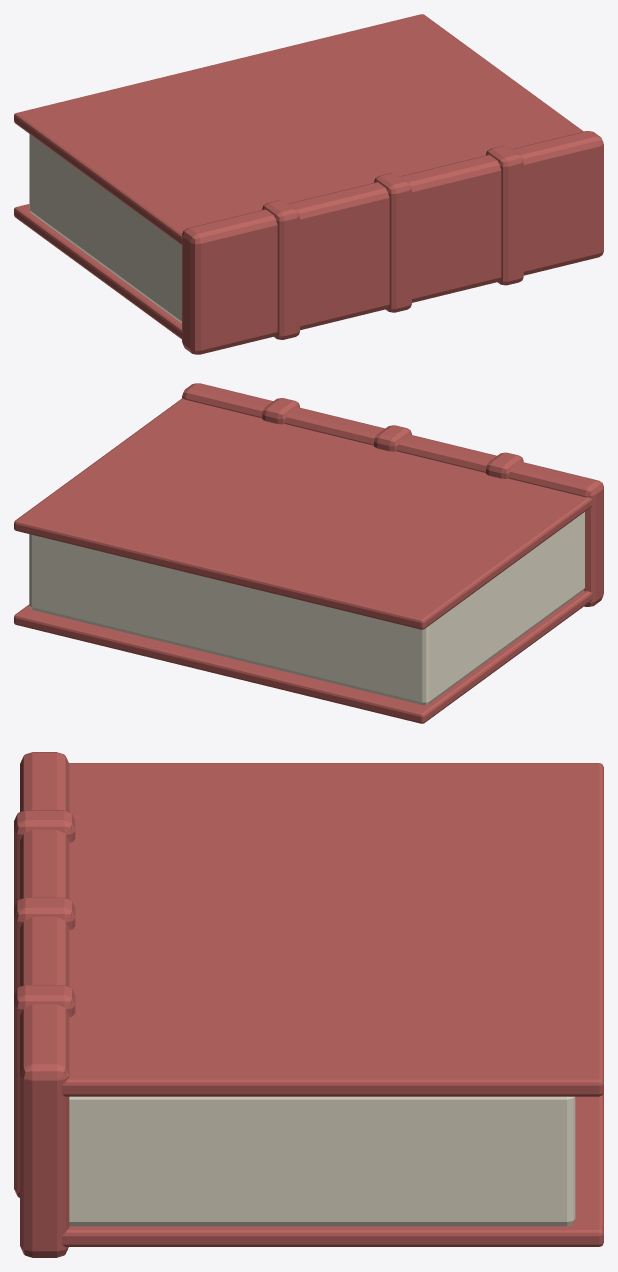
File: monastery_finished_codex.glb
3 renders of one model, top to bottom at view 1: azimuth 30°, elevation 25°; view 2: azimuth 150°, elevation 25°; view 3: azimuth 270°, elevation 25°, orthographic. The views are drawn at different scales.
Visible parts, largest first — view 1: world; view 2: world; view 3: world.
Part boxes in pixels (x1=…): world: x1=14, y1=14, x2=603, y2=354; world: x1=14, y1=383, x2=603, y2=723; world: x1=14, y1=752, x2=603, y2=1257.
Size of the model in its own units: 2 by 0.5914 by 1.55.
